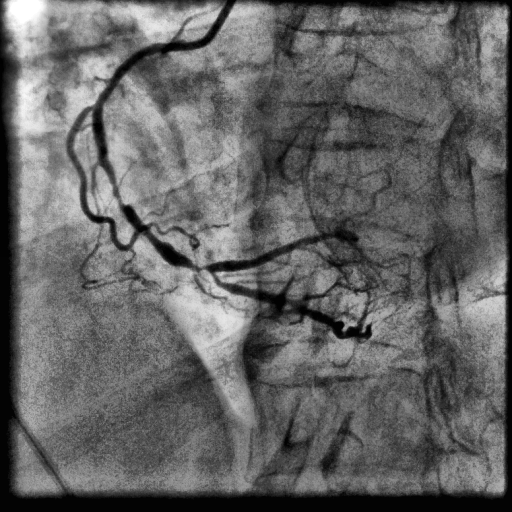pborca: (212, 235, 333, 272)
pda: (209, 272, 376, 338)
rca: (92, 41, 216, 272)
